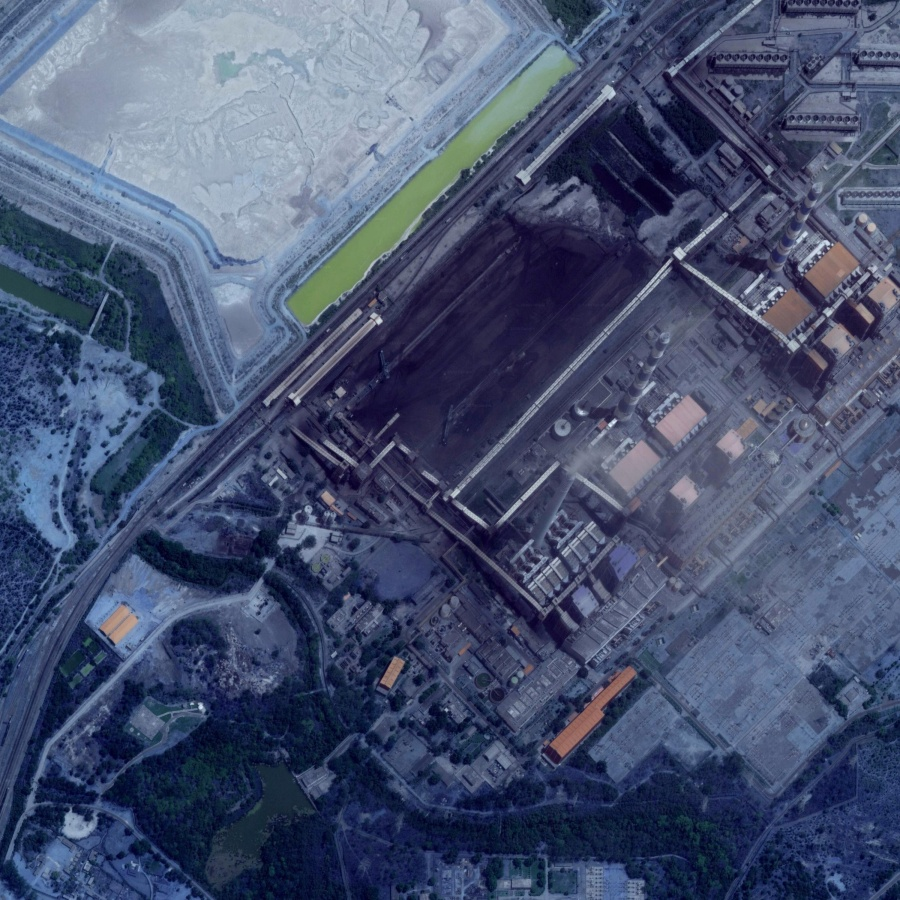PowerPlant: (275, 48, 800, 555)
